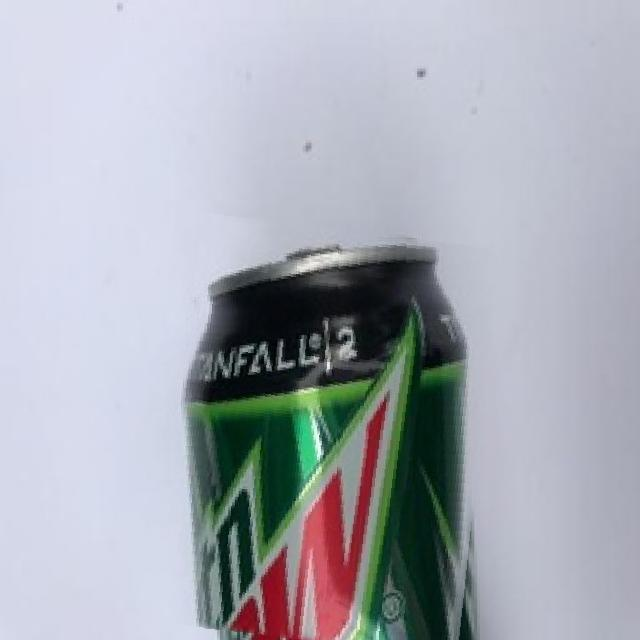recyclable: (169, 220, 490, 640)
